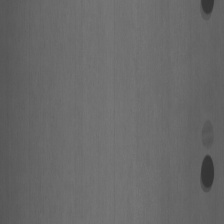oil_spot: (196, 154, 217, 193), (198, 117, 216, 148), (196, 0, 217, 22)
